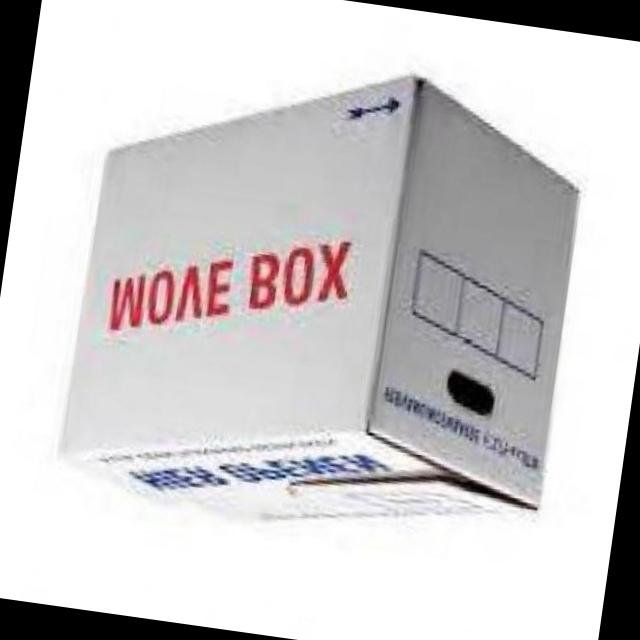box: (47, 31, 603, 578)
